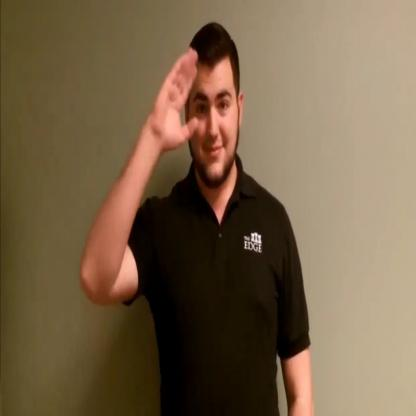Hello: (143, 24, 253, 209)
